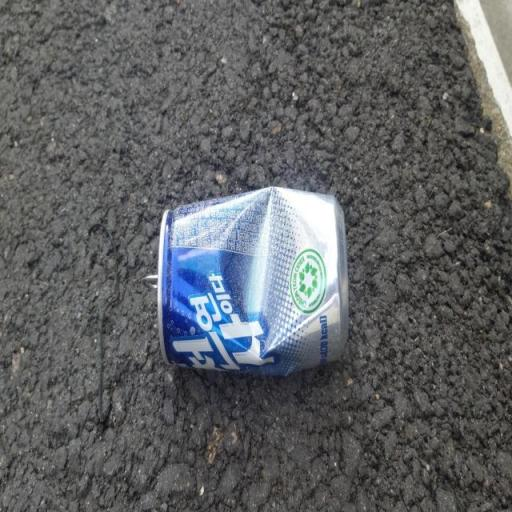metal: (125, 161, 407, 449)
